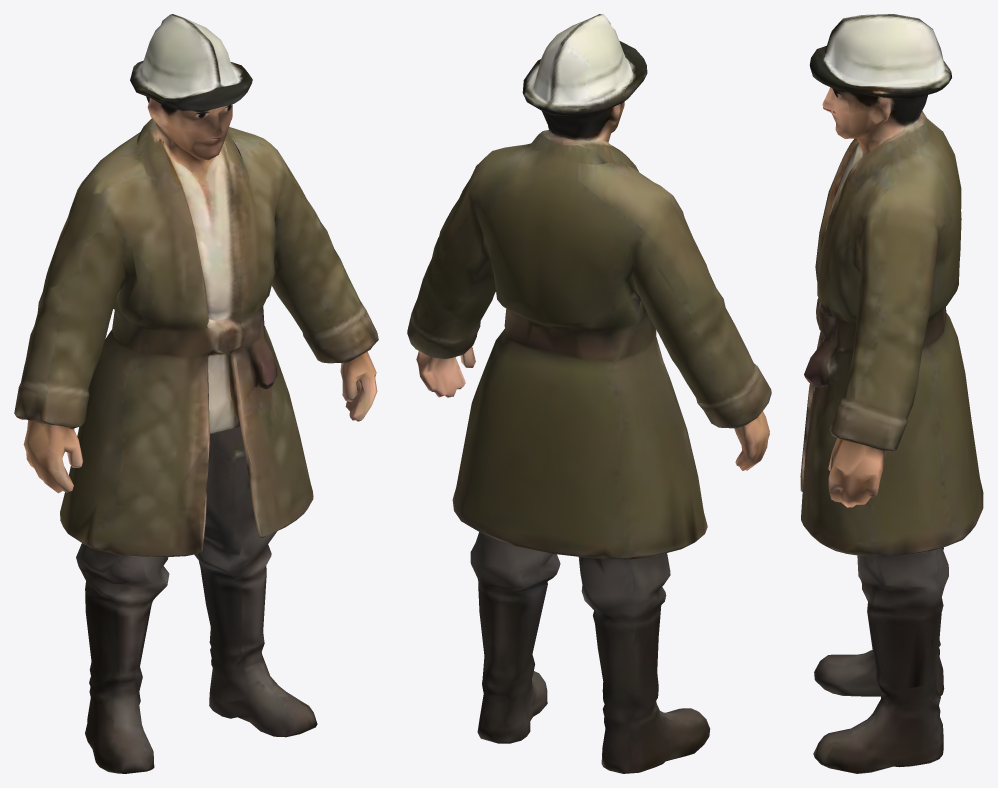
The model's file is herder-erlan.gen.phone.glb.
3 renders of one model, left to right at view 1: azimuth 30°, elevation 25°; view 2: azimuth 150°, elevation 25°; view 3: azimuth 270°, elevation 25°, orthographic.
Parts seen in each view (by area): view 1: herder-erlan.raw; view 2: herder-erlan.raw; view 3: herder-erlan.raw.
Boxes of the visible parts, <box> form: herder-erlan.raw: <box>14,14,378,773</box>; herder-erlan.raw: <box>407,14,771,773</box>; herder-erlan.raw: <box>800,14,983,773</box>.
Bounding box in the file's own units: 0.9566 × 1.85 × 0.4318.
1 material, 1 textured.
